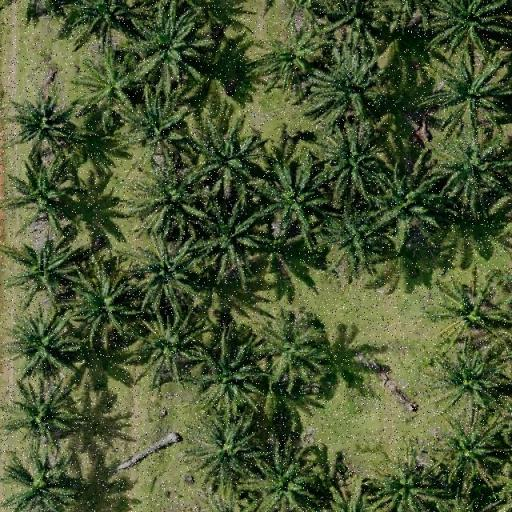Ganoderma: (143, 319, 192, 370), (137, 250, 189, 295), (265, 34, 313, 79), (451, 288, 497, 334), (93, 66, 135, 106)
